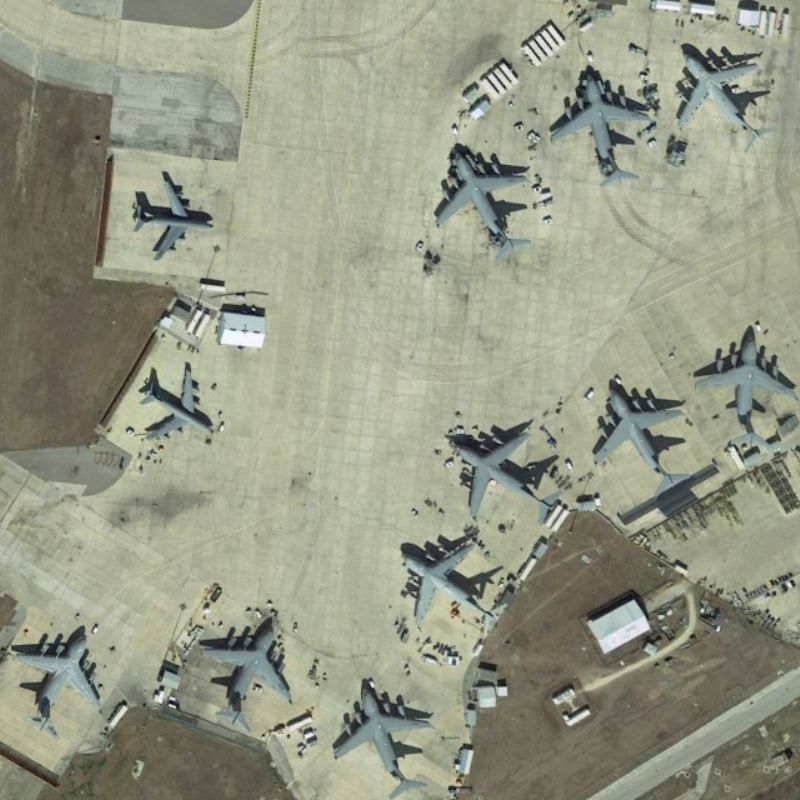A14: (122, 167, 221, 266), (134, 361, 215, 448)
A3: (687, 316, 800, 455), (585, 370, 701, 505), (541, 63, 660, 194), (423, 142, 543, 268), (327, 673, 444, 800), (443, 418, 565, 531), (669, 43, 781, 161), (194, 608, 295, 736), (390, 532, 511, 638), (4, 622, 105, 739)
